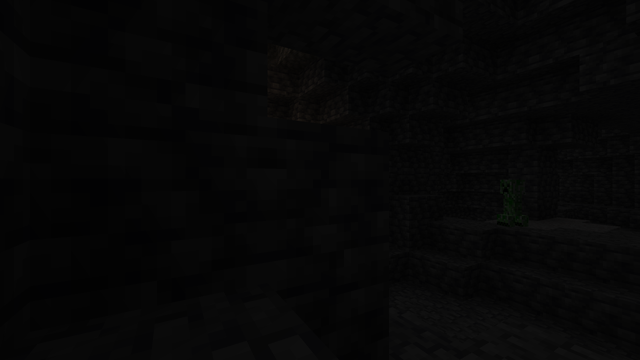creepers: (498, 177, 525, 227)
